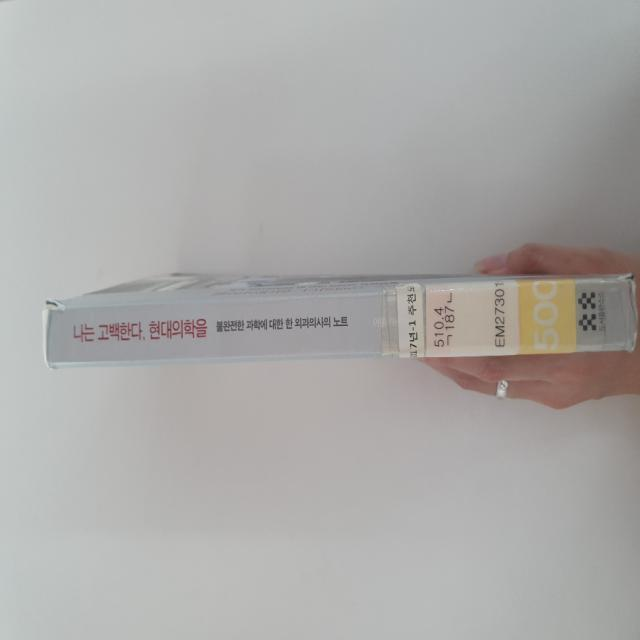Ripped: (40, 288, 77, 317), (615, 262, 639, 293)
Wornout: (40, 317, 62, 375), (620, 292, 639, 357)
